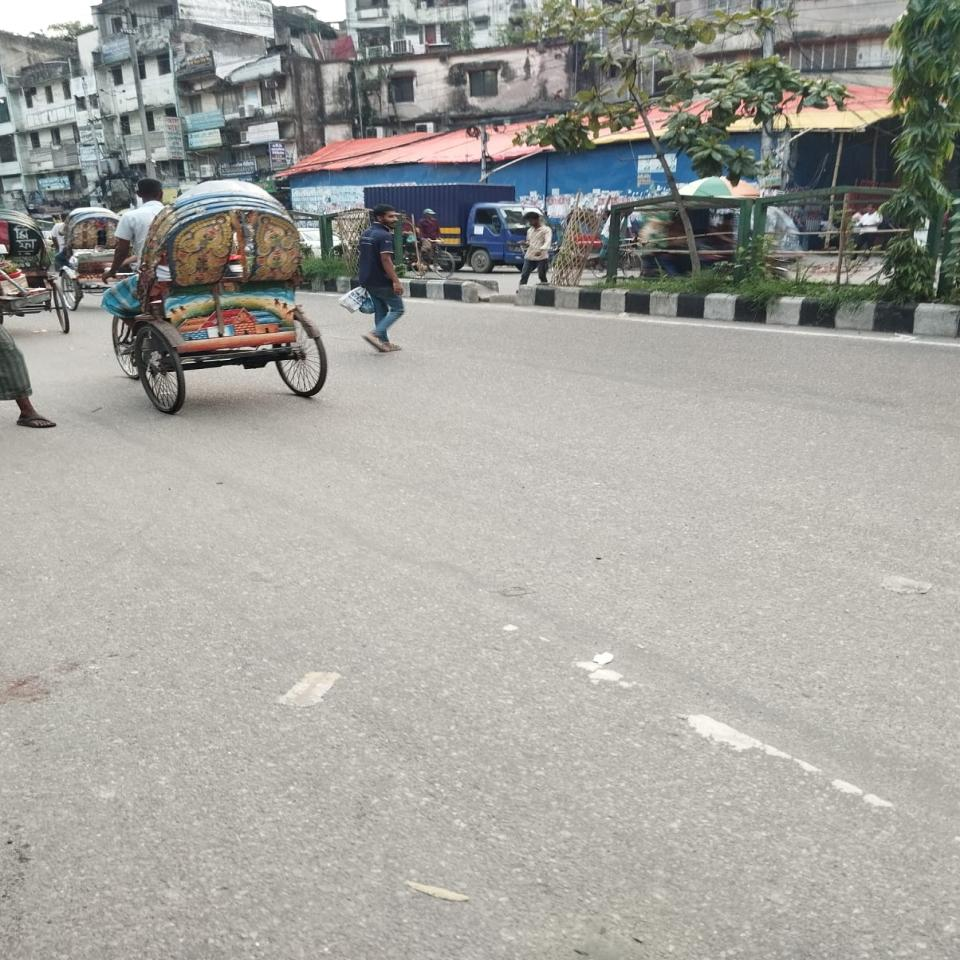person: (356, 203, 407, 355)
